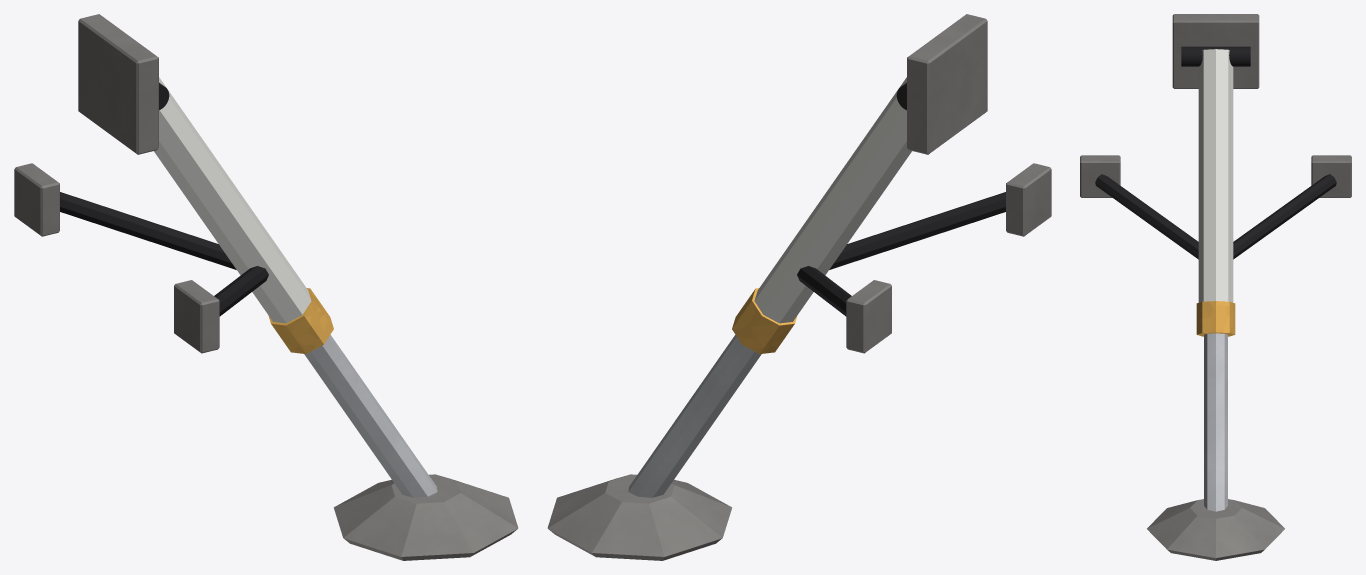
The model's file is ax_gear_04_lander_leg_l_deployed.glb.
3 views of the same model, side by side, from view 1: azimuth 30°, elevation 25°; view 2: azimuth 150°, elevation 25°; view 3: azimuth 270°, elevation 25° (orthographic). The views are drawn at different scales.
Parts seen in each view (by area): view 1: leg_hinge_block, leg_footpad, leg_outer_tube, leg_inner_tube, leg_secondary_struts, leg_crush_band; view 2: leg_hinge_block, leg_footpad, leg_outer_tube, leg_inner_tube, leg_secondary_struts, leg_crush_band; view 3: leg_outer_tube, leg_hinge_block, leg_footpad, leg_inner_tube, leg_secondary_struts, leg_crush_band, leg_hinge_pin.
Part boxes in pixels (left/top/right/bottom): leg_hinge_block: left=14, top=14, right=219, bottom=353; leg_footpad: left=333, top=474, right=518, bottom=560; leg_outer_tube: left=154, top=77, right=311, bottom=323; leg_inner_tube: left=304, top=335, right=437, bottom=497; leg_secondary_struts: left=60, top=192, right=268, bottom=316; leg_crush_band: left=268, top=288, right=333, bottom=353; leg_hinge_block: left=846, top=14, right=1051, bottom=353; leg_footpad: left=547, top=474, right=732, bottom=560; leg_outer_tube: left=754, top=77, right=911, bottom=323; leg_inner_tube: left=628, top=335, right=761, bottom=497; leg_secondary_struts: left=797, top=192, right=1005, bottom=316; leg_crush_band: left=732, top=288, right=797, bottom=353; leg_outer_tube: left=1198, top=49, right=1233, bottom=302; leg_hinge_block: left=1080, top=14, right=1351, bottom=197; leg_footpad: left=1147, top=499, right=1284, bottom=560; leg_inner_tube: left=1204, top=333, right=1227, bottom=511; leg_secondary_struts: left=1095, top=174, right=1336, bottom=259; leg_crush_band: left=1196, top=301, right=1235, bottom=336; leg_hinge_pin: left=1181, top=46, right=1250, bottom=66.
Size of the model in its own units: 2.47 by 3.31 by 2.
5 materials, 3 textured.
